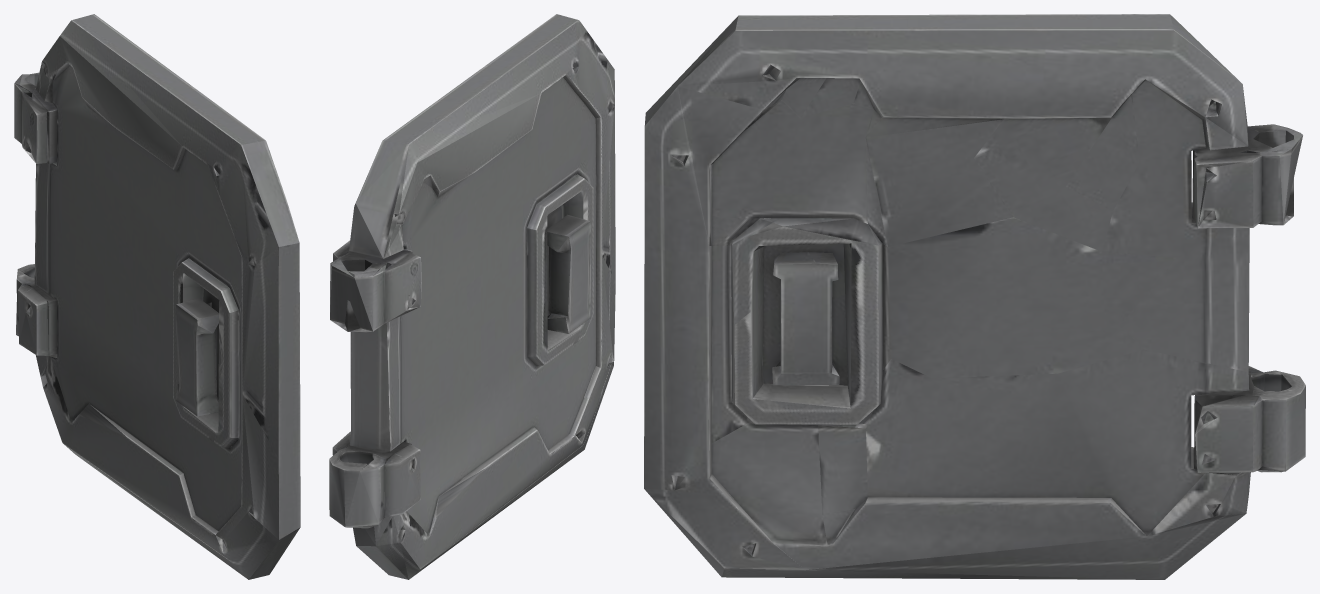
File: shared_escape_pod__hatch_lod1.glb
The picture shows the model from 3 angles, left to right: view 1: azimuth 30°, elevation 25°; view 2: azimuth 150°, elevation 25°; view 3: azimuth 270°, elevation 25°; orthographic projection. The views are drawn at different scales.
Parts seen in each view (by area): view 1: mesh_node; view 2: mesh_node; view 3: mesh_node.
Boxes of the visible parts, left/top/right/bottom form: mesh_node: left=14, top=14, right=300, bottom=579; mesh_node: left=329, top=14, right=615, bottom=579; mesh_node: left=644, top=14, right=1305, bottom=579.
Bounding box in the file's own units: 0.2734 × 1.54 × 1.67.
Materials: 1 (1 with a texture image).
